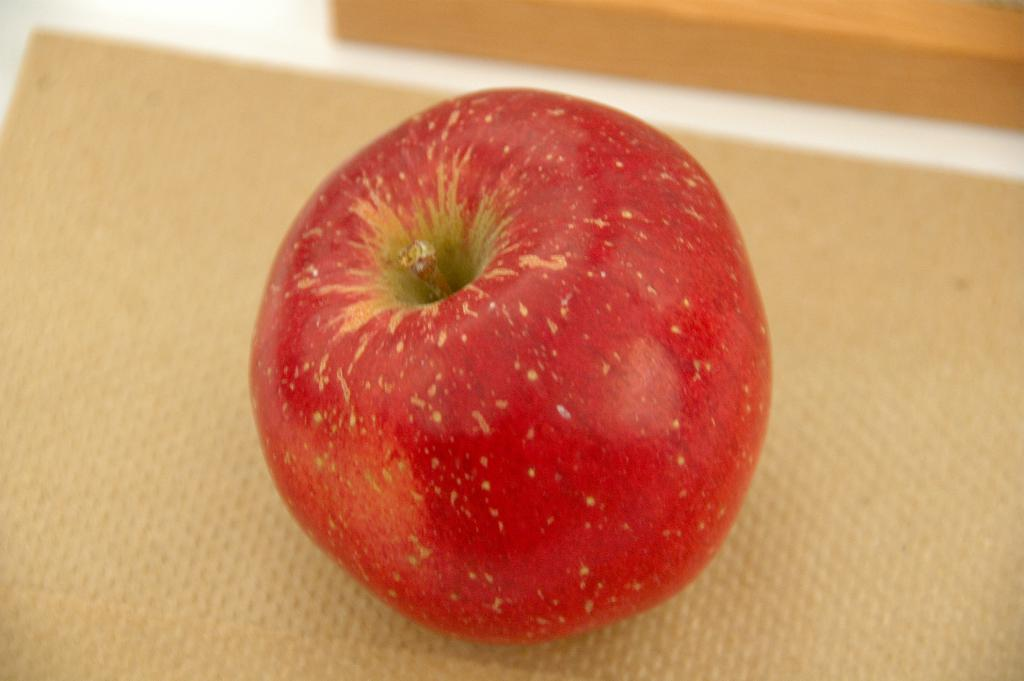Apple: (236, 69, 775, 652)
